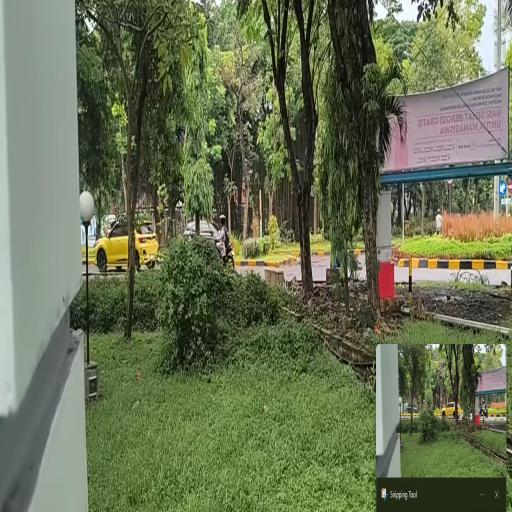Helmet: (219, 214, 226, 225), (437, 209, 440, 213)
Motor: (216, 215, 234, 266), (216, 243, 234, 266), (480, 401, 488, 417)
